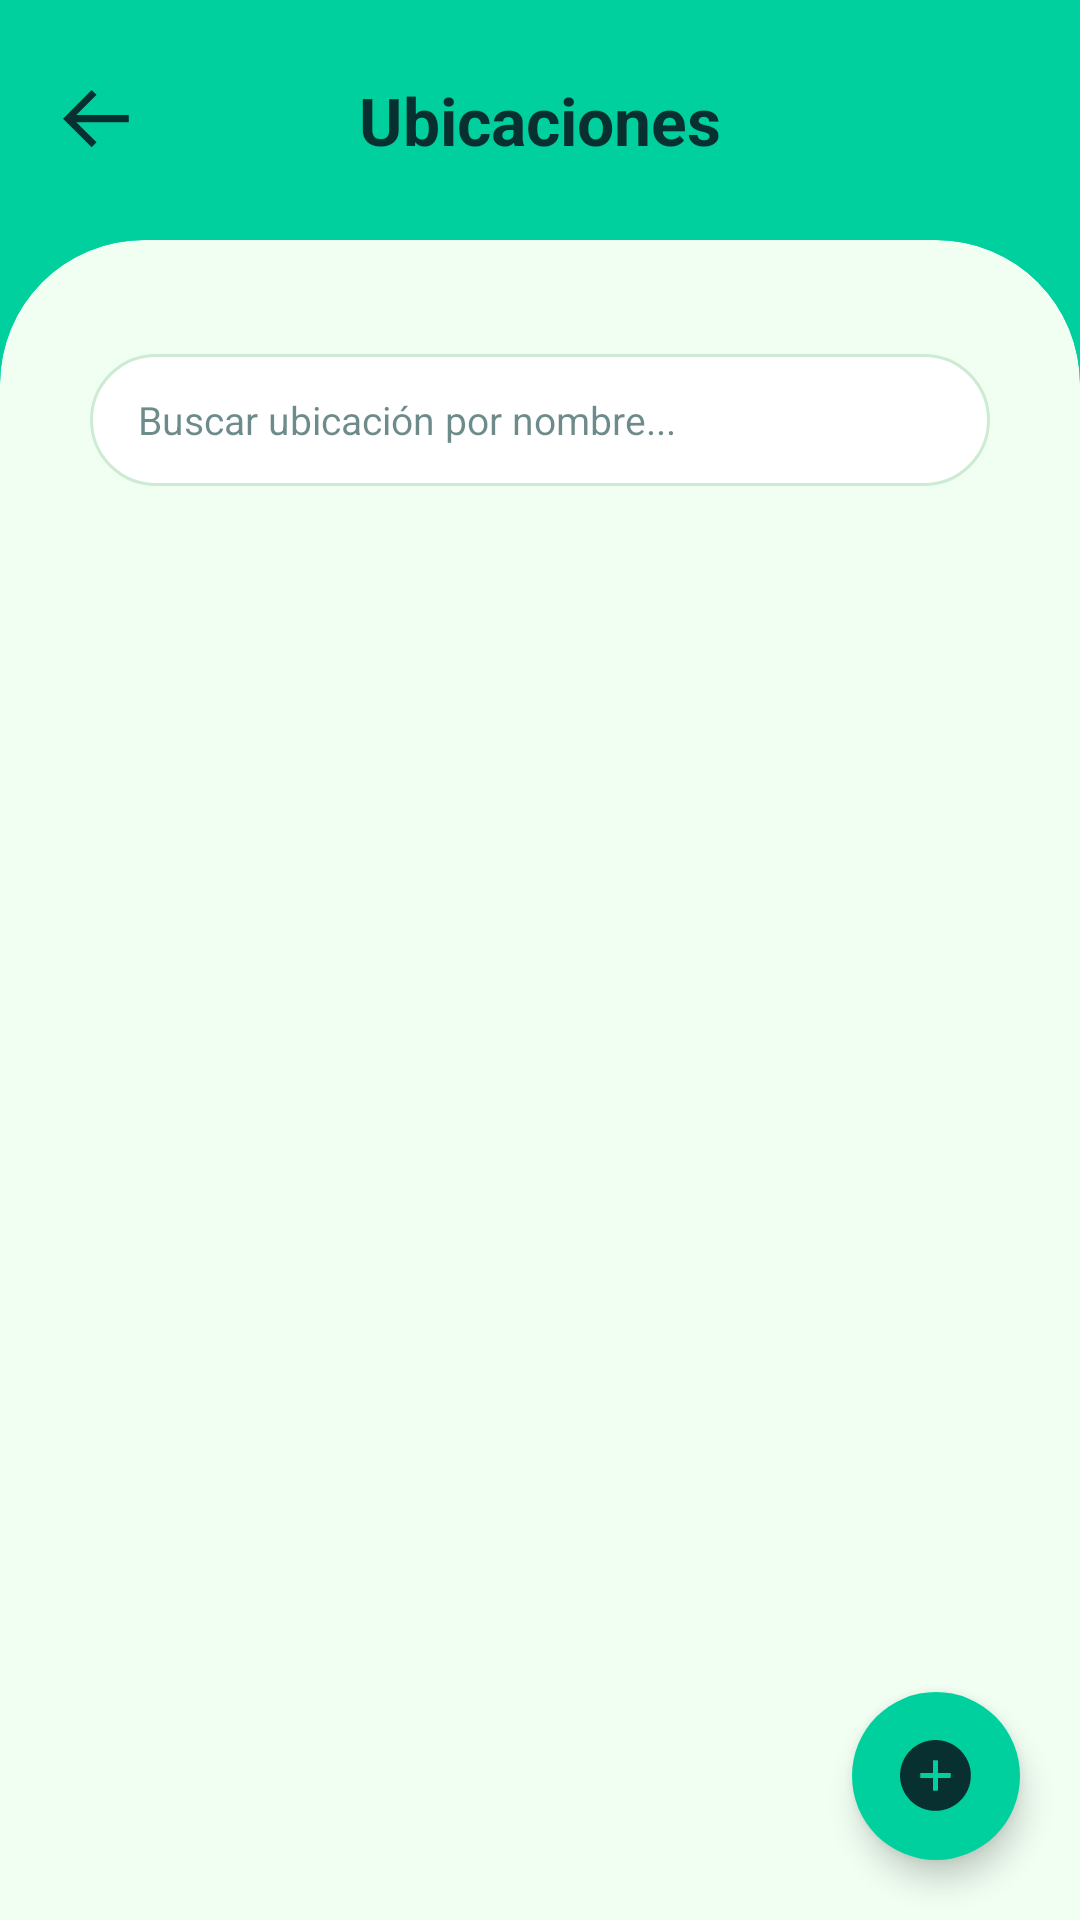

Locate icon controls on the screen. Image size 1080 × 1920, boxes as BBox(x1, y1, x2, y2).
Agregar ubicación: BBox(852, 1692, 1020, 1860)
arrow back: BBox(63, 90, 129, 147)
